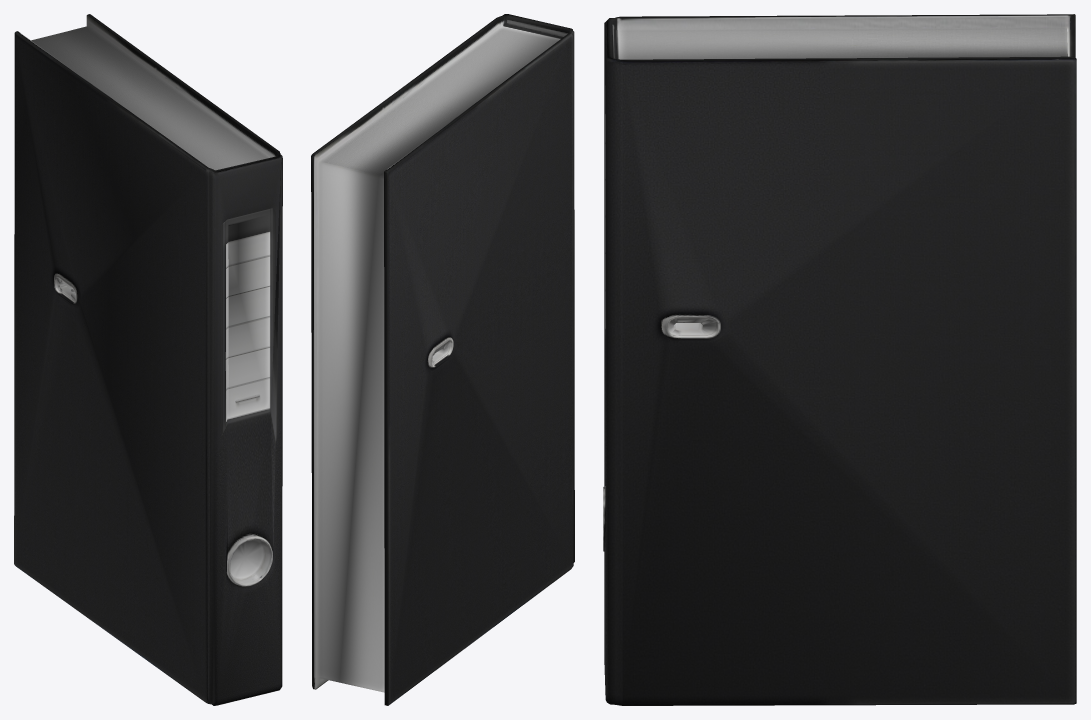
The model's file is PRP_FileBinder_C.fbx.
3 renders of one model, left to right at view 1: azimuth 30°, elevation 25°; view 2: azimuth 150°, elevation 25°; view 3: azimuth 270°, elevation 25°, orthographic. The views are drawn at different scales.
Parts seen in each view (by area): view 1: tripo_node_cca4a65b-9c66-44bc-b9d7-56828172d431; view 2: tripo_node_cca4a65b-9c66-44bc-b9d7-56828172d431; view 3: tripo_node_cca4a65b-9c66-44bc-b9d7-56828172d431.
Boxes of the visible parts, bbox=[...] form: tripo_node_cca4a65b-9c66-44bc-b9d7-56828172d431: bbox=[14, 14, 282, 705]; tripo_node_cca4a65b-9c66-44bc-b9d7-56828172d431: bbox=[311, 14, 574, 705]; tripo_node_cca4a65b-9c66-44bc-b9d7-56828172d431: bbox=[603, 14, 1076, 705].
Size of the model in its own units: 18.48 by 115 by 75.98.
Materials: 1 (1 with a texture image).
